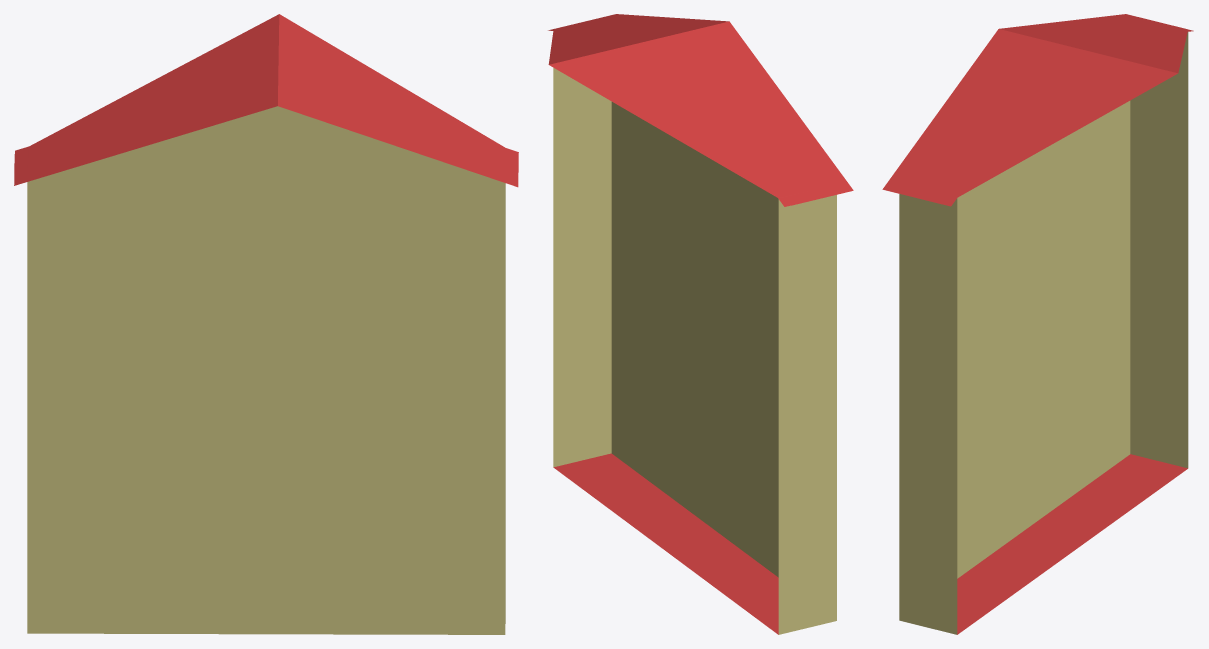
3 views of the same model, side by side, from view 1: azimuth 30°, elevation 25°; view 2: azimuth 150°, elevation 25°; view 3: azimuth 270°, elevation 25° (orthographic). The views are drawn at different scales.
Parts seen in each view (by area): view 1: group_5, group_3; view 2: group_5, group_3, group_6, group_4; view 3: group_5, group_3, group_6, group_4.
Part boxes in pixels (x1,y1,x2,y2): group_5: [27, 106, 505, 634]; group_3: [14, 14, 518, 187]; group_5: [553, 68, 836, 634]; group_3: [548, 14, 853, 206]; group_6: [553, 453, 778, 634]; group_4: [578, 14, 851, 204]; group_5: [899, 32, 1188, 634]; group_3: [882, 14, 1193, 206]; group_6: [957, 454, 1187, 634]; group_4: [883, 15, 1171, 203].
Size of the model in its own units: 9.16 by 6.28 by 11.31.
